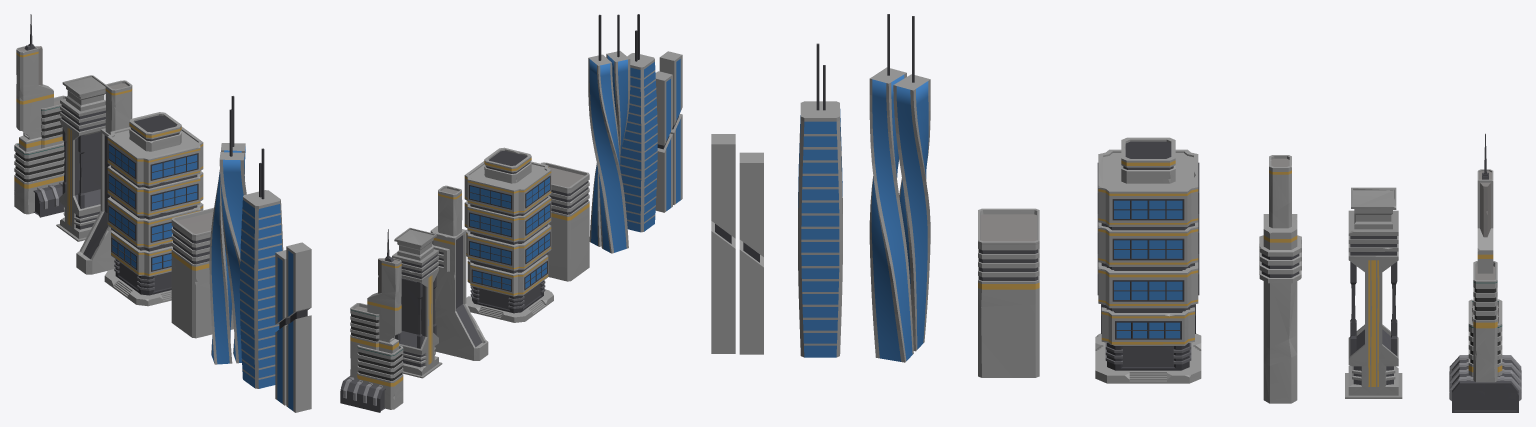
File: InfinityRunnerEnvironment.fbx
3 renders of one model, left to right at view 1: azimuth 30°, elevation 25°; view 2: azimuth 150°, elevation 25°; view 3: azimuth 270°, elevation 25°, orthographic. The views are drawn at different scales.
Visible parts, largest first — view 1: Skyscraper_04, Cube, Skyscraper_01, Building_11, Skyscraper_02, Cube.001, Skyscraper_05, Skyscraper_03; view 2: Skyscraper_04, Building_11, Skyscraper_01, Skyscraper_03, Cube, Skyscraper_02, Skyscraper_05, Cube.001; view 3: Skyscraper_04, Building_11, Cube, Cube.001, Skyscraper_05, Skyscraper_02, Skyscraper_01, Skyscraper_03.
Part boxes in pixels (<box>): Skyscraper_04: <box>104,112,203,306</box>; Cube: <box>239,148,283,388</box>; Skyscraper_01: <box>14,14,66,217</box>; Building_11: <box>209,96,246,364</box>; Skyscraper_02: <box>56,75,105,241</box>; Cube.001: <box>275,242,311,412</box>; Skyscraper_05: <box>171,207,233,338</box>; Skyscraper_03: <box>76,80,132,274</box>; Skyscraper_04: <box>464,147,553,322</box>; Building_11: <box>588,14,630,253</box>; Skyscraper_01: <box>340,229,403,412</box>; Skyscraper_03: <box>430,185,488,360</box>; Cube: <box>620,14,657,232</box>; Skyscraper_02: <box>392,228,442,378</box>; Skyscraper_05: <box>541,162,589,281</box>; Cube.001: <box>655,51,682,212</box>; Skyscraper_04: <box>1095,137,1201,383</box>; Building_11: <box>869,14,930,362</box>; Cube: <box>798,43,842,357</box>; Cube.001: <box>711,134,763,354</box>; Skyscraper_05: <box>978,208,1039,377</box>; Skyscraper_02: <box>1345,187,1402,398</box>; Skyscraper_01: <box>1449,133,1521,412</box>; Skyscraper_03: <box>1259,155,1301,403</box>.
Bounding box in the file's own units: 1489 × 4761 × 9707.
